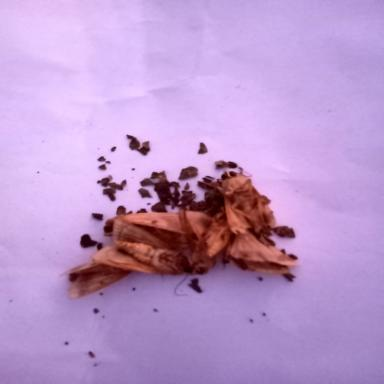abw: (94, 212, 194, 276), (214, 169, 278, 230)
